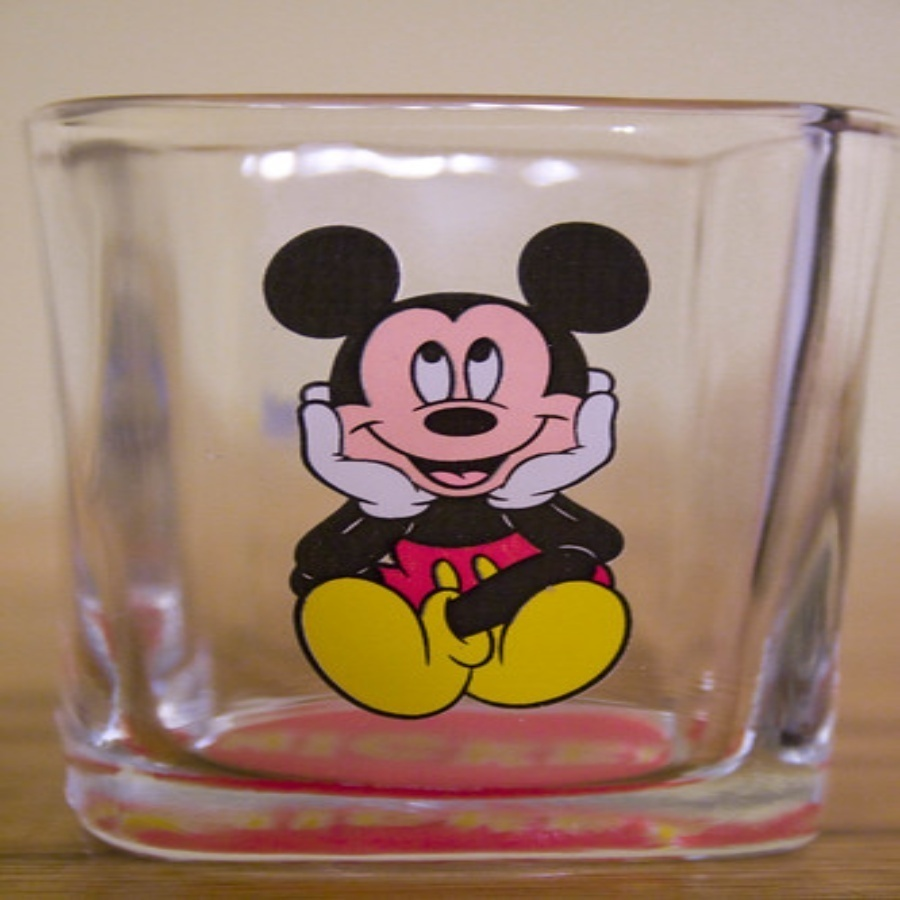whiskey: (44, 111, 883, 820)
